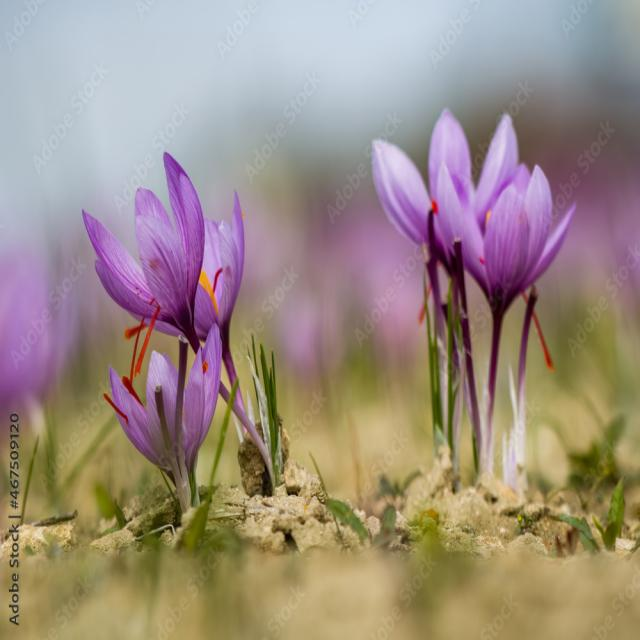saffron open: (83, 154, 205, 351), (194, 191, 244, 384)
